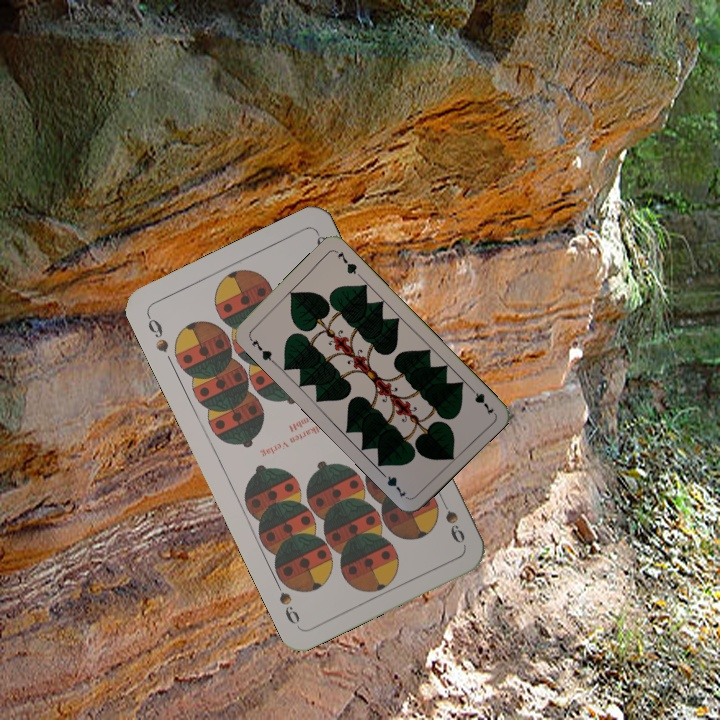G7: (465, 382, 497, 417), (246, 333, 278, 366)
S9: (435, 491, 468, 546), (143, 310, 171, 355)
